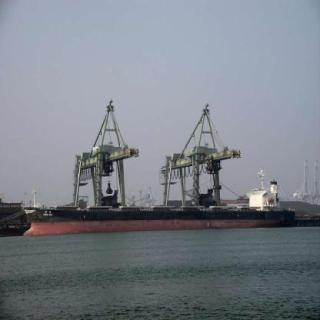Bulk Carrier: (9, 95, 297, 232)
